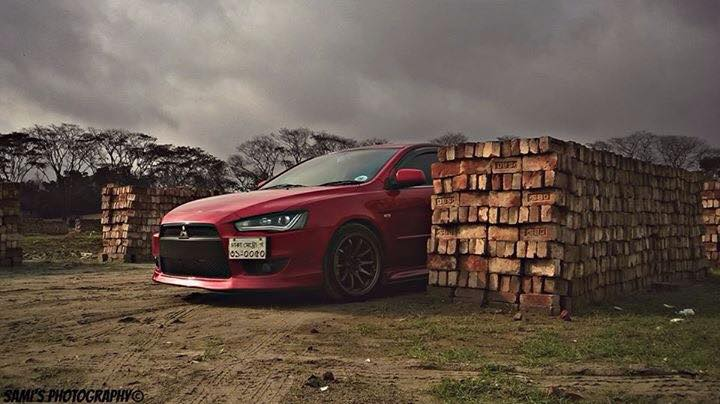registration_plate: (228, 237, 267, 260)
